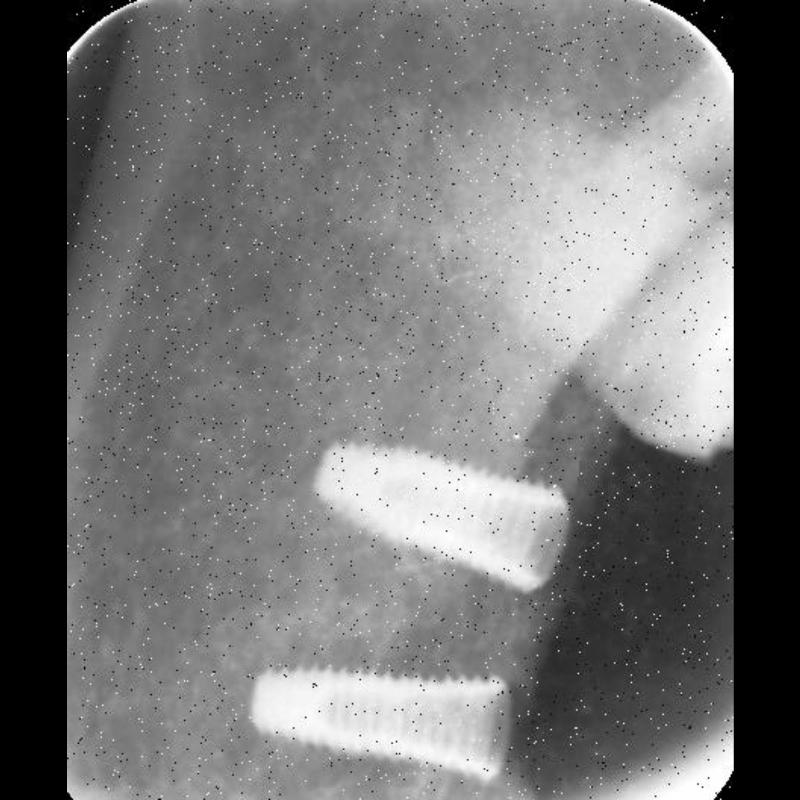Dentium: (300, 434, 576, 596), (246, 654, 518, 788)
